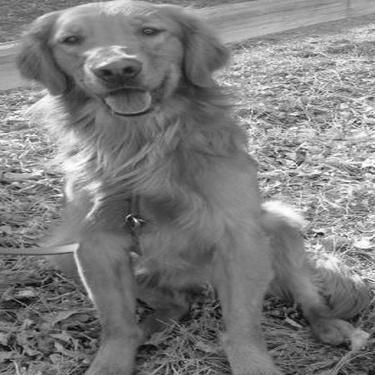dog: (3, 4, 371, 373)
